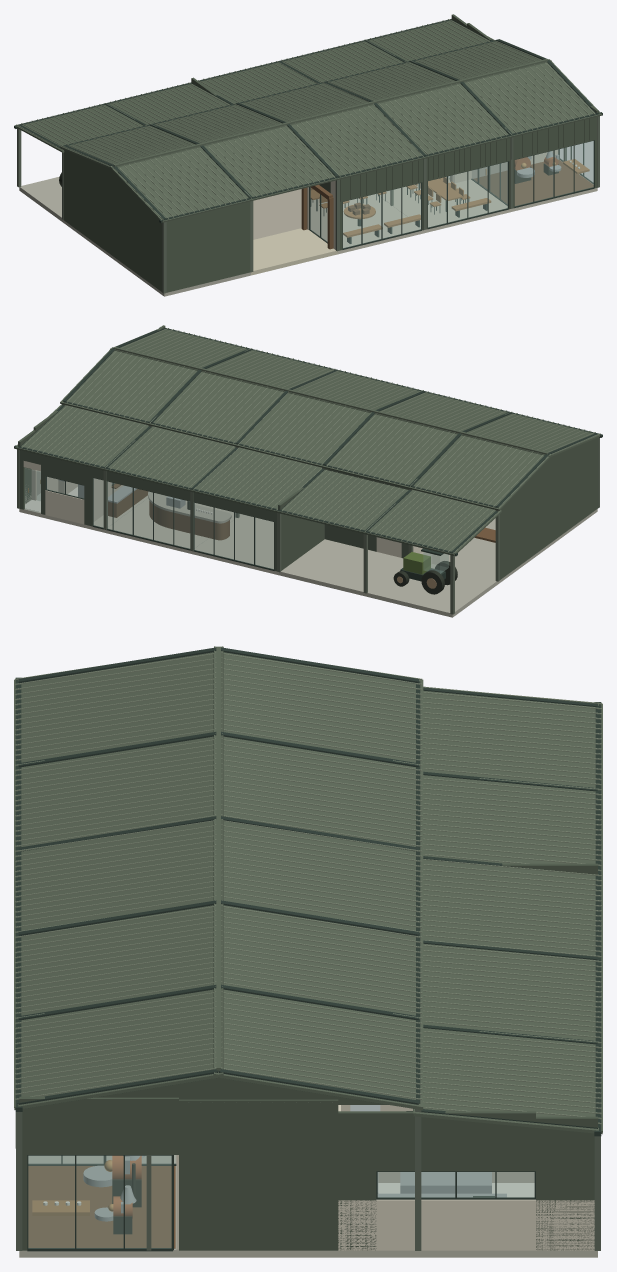
Rendered from glenorie-farm-concept-01.glb.
3 renders of one model, top to bottom at view 1: azimuth 30°, elevation 25°; view 2: azimuth 150°, elevation 25°; view 3: azimuth 270°, elevation 25°, orthographic. The views are drawn at different scales.
Visible parts, largest first — view 1: Existing_gable_west, Existing_gable_east, Extension_roof_3330_to_3800, Farm_north_side_wall, Farm_prep_west_wall, West_upper_cladding, Commercial_15m_by_14_5m, Fixed_workshop_glazing_glass, Roastery_west_glazing_glass, Operable_stock_gate_glass, Entry_bay, Roastery_floor (+12 smaller); view 2: Existing_gable_east, Extension_roof_3330_to_3800, Existing_gable_west, East_workshop_glazing_glass, Farm_north_side_wall, Tractor_carport_10m_by_4_5m, Commercial_15m_by_14_5m, East_upper_cladding, Longitudinal_tie (×3), Farm_prep_5m_by_10m, North_extension_end, Ridge_cap (+15 smaller); view 3: Existing_gable_east, Existing_gable_west, Extension_roof_3330_to_3800, South_toilet_wall, South_kitchen_low, Roastery_south_glazing_glass, Roastery_south_high, South_kitchen_high, Roastery_floor, South_kitchen_start, Commercial_15m_by_14_5m, Longitudinal_tie (×3) (+16 smaller).
Boxes of the visible parts, x1,y1,x2,y2 form: Existing_gable_west: (110,59,601,222); Existing_gable_east: (60,39,551,169); Extension_roof_3330_to_3800: (15,19,494,152); Farm_north_side_wall: (64,149,161,291); Farm_prep_west_wall: (166,201,250,292); West_upper_cladding: (340,117,594,202); Commercial_15m_by_14_5m: (310,160,597,254); Fixed_workshop_glazing_glass: (428,162,507,227); Roastery_west_glazing_glass: (515,141,593,206); Operable_stock_gate_glass: (343,183,420,248); Entry_bay: (251,228,337,275); Roastery_floor: (473,160,593,205); Existing_gable_east: (60,347,551,510); Extension_roof_3330_to_3800: (15,404,501,555); Existing_gable_west: (110,329,600,457); East_workshop_glazing_glass: (93,478,273,569); Farm_north_side_wall: (500,437,597,579); Tractor_carport_10m_by_4_5m: (279,539,497,617); Commercial_15m_by_14_5m: (19,495,279,575); East_upper_cladding: (20,450,276,522); Longitudinal_tie (×3): (19,328,595,552); Farm_prep_5m_by_10m: (420,509,597,584); North_extension_end: (278,487,324,570); Ridge_cap: (113,347,548,454); Existing_gable_east: (213,646,423,1110); Existing_gable_west: (14,646,223,1109); Extension_roof_3330_to_3800: (413,686,602,1134); South_toilet_wall: (179,1099,338,1250); South_kitchen_low: (338,1199,594,1250); Roastery_south_glazing_glass: (28,1156,171,1248); Roastery_south_high: (19,1096,178,1154); South_kitchen_high: (376,1111,535,1171); Roastery_floor: (28,1166,175,1248); South_kitchen_start: (536,1116,597,1250); Commercial_15m_by_14_5m: (19,1155,597,1257); Longitudinal_tie (×3): (17,681,599,1127).
Size of the model in its own units: 25.5 by 5.24 by 14.76.
